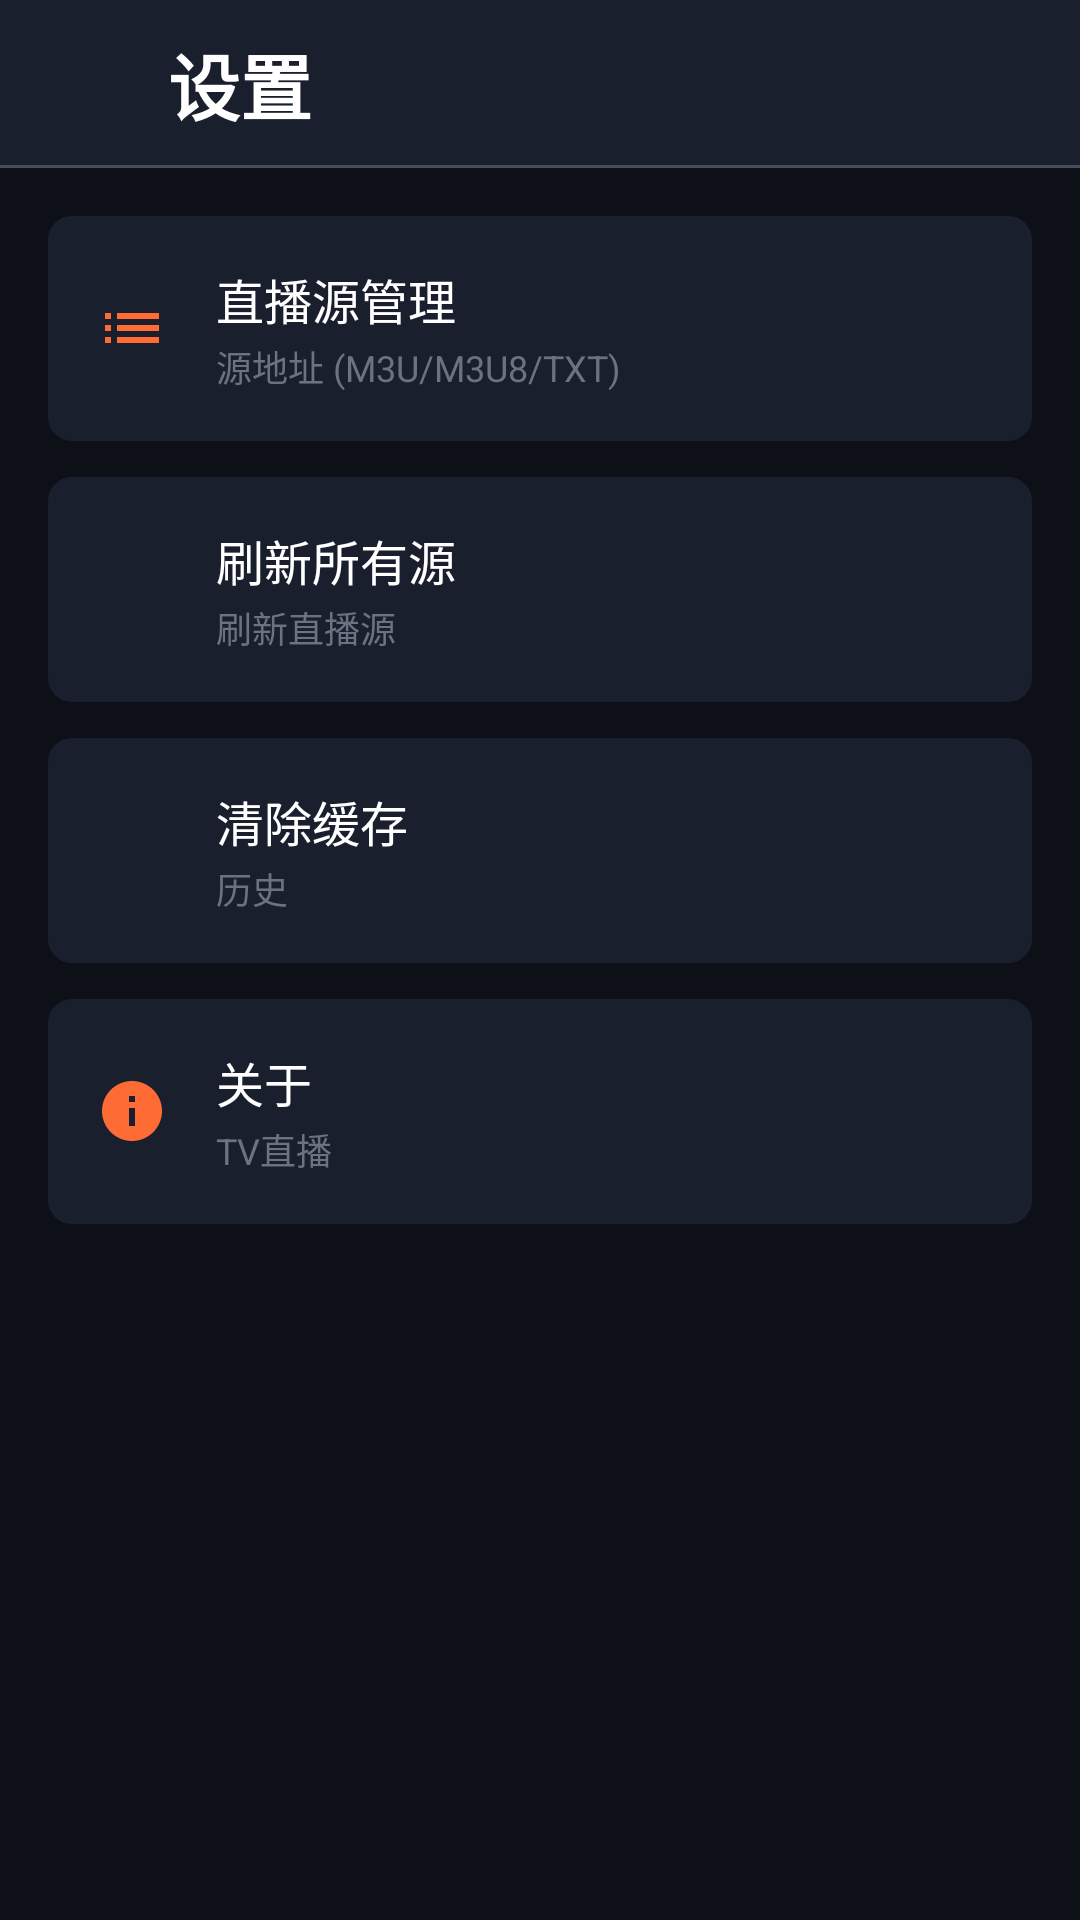

Named icons in this screenshot (1080 × 1920) and their centers, point (x, y):
info: point (132, 1111)
list: point (132, 328)
